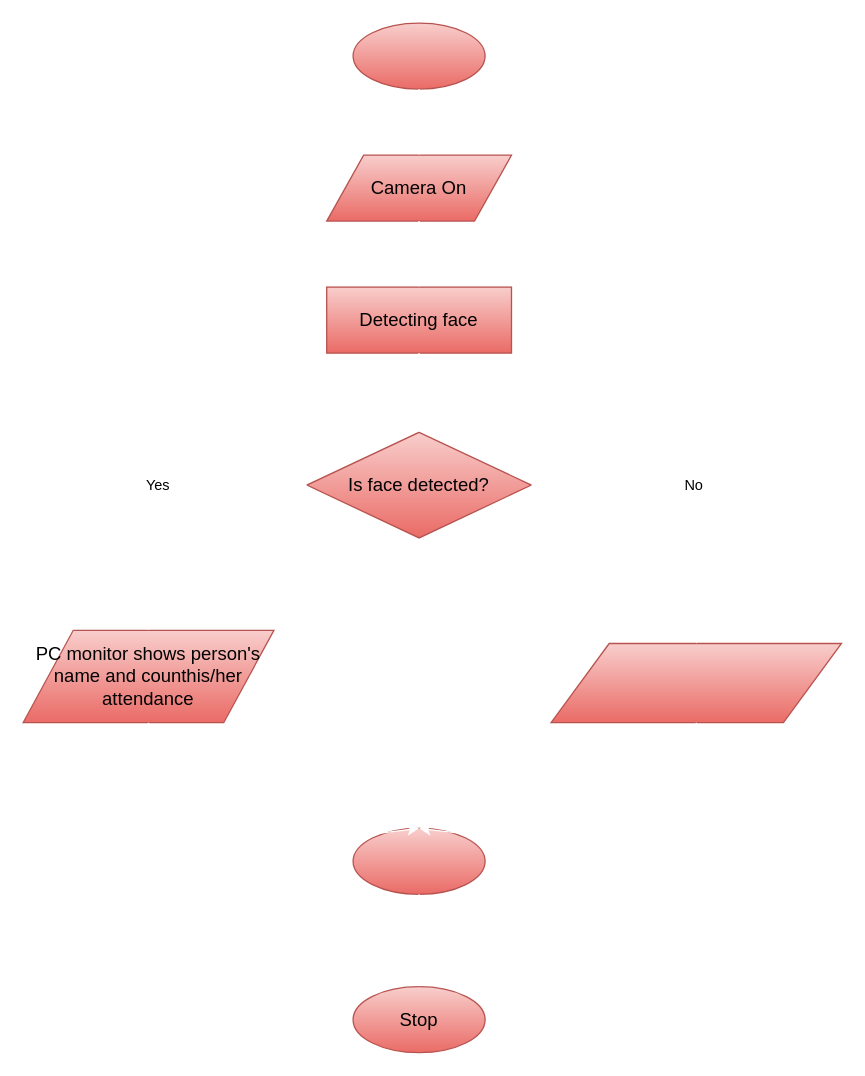
This 865x1076 diagram has some shape labels left out. The box of each missing label's shape, as (x1, y1, x2, y2) in pixels:
PC monitor shows Face Unidentified: (550, 642, 842, 723)
Start: (352, 22, 485, 89)
